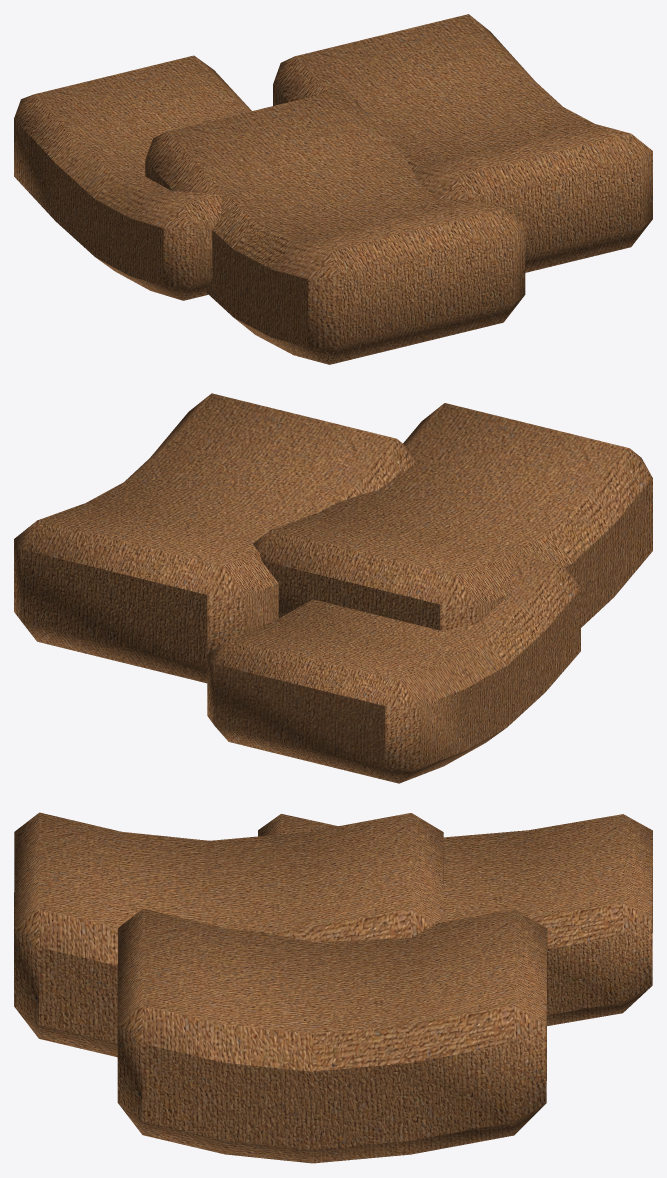
File: prop_sacks.glb
The picture shows the model from 3 angles, top to bottom: view 1: azimuth 30°, elevation 25°; view 2: azimuth 150°, elevation 25°; view 3: azimuth 270°, elevation 25°; orthographic projection. The views are drawn at different scales.
Parts seen in each view (by area): view 1: sack, sack.001, sack.002; view 2: sack.001, sack, sack.002; view 3: sack.001, sack, sack.002.
Boxes of the visible parts, <box> form: sack: <box>145,89,525,364</box>; sack.001: <box>273,14,652,272</box>; sack.002: <box>14,55,251,300</box>; sack.001: <box>14,393,415,683</box>; sack: <box>253,403,652,630</box>; sack.002: <box>207,553,580,783</box>; sack.001: <box>117,909,547,1163</box>; sack: <box>14,812,443,1057</box>; sack.002: <box>258,814,652,1025</box>.
Bounding box in the file's own units: 1.36 × 0.4204 × 1.54.
1 material, 1 textured.
